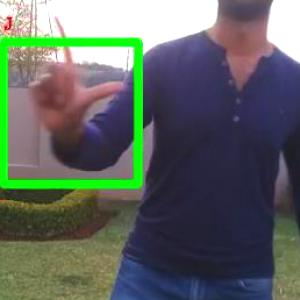land_hand: (23, 3, 129, 138)
